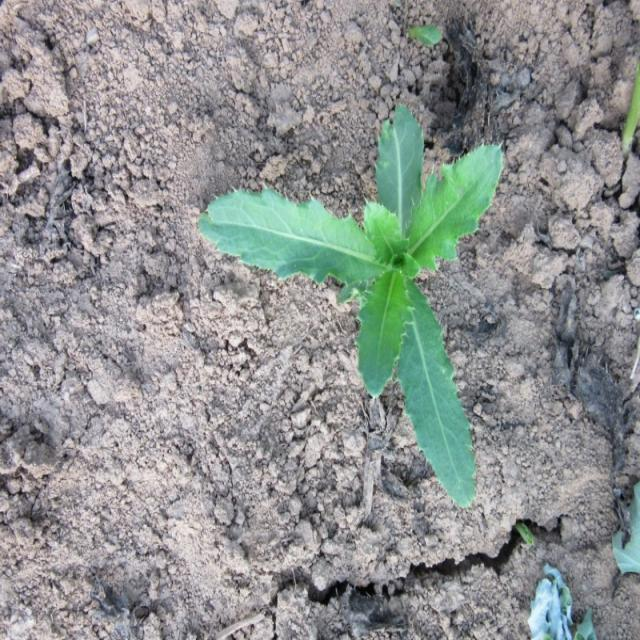cs: (198, 100, 508, 513)
